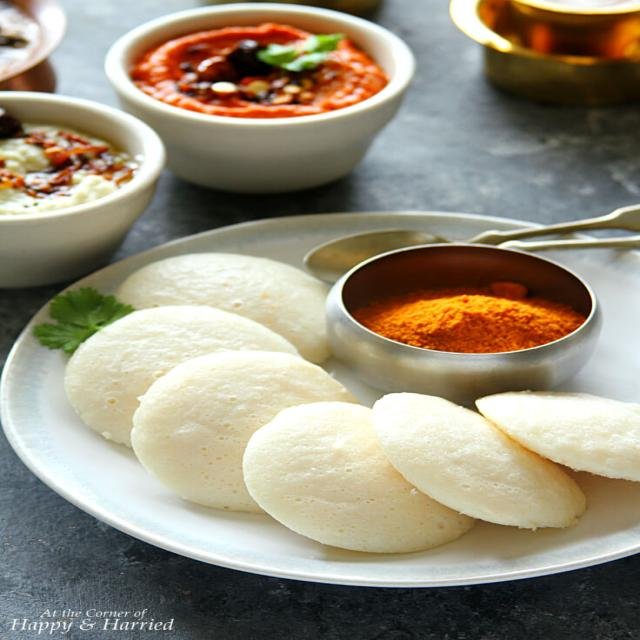IDLI: (133, 351, 354, 512), (243, 402, 474, 552), (65, 306, 297, 447), (371, 392, 585, 528), (114, 253, 329, 359), (476, 392, 639, 481)
